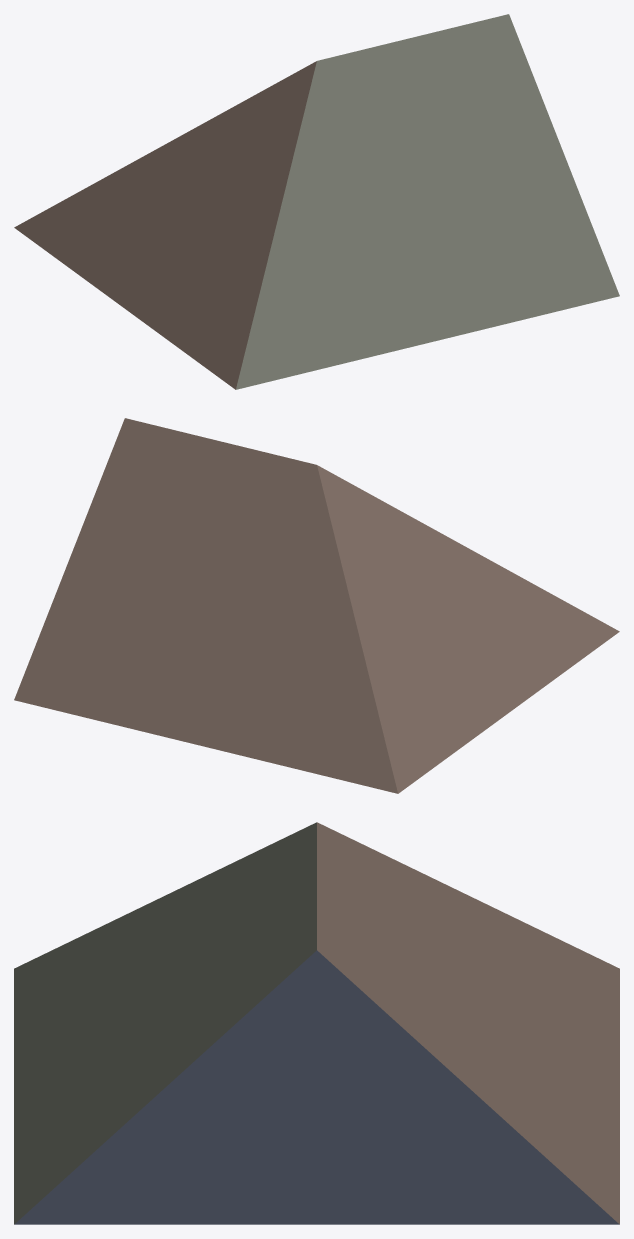
File: Bump_end.fbx
The picture shows the model from 3 angles, top to bottom: view 1: azimuth 30°, elevation 25°; view 2: azimuth 150°, elevation 25°; view 3: azimuth 270°, elevation 25°; orthographic projection. The views are drawn at different scales.
Visible parts, largest first — view 1: Mesh; view 2: Mesh; view 3: Mesh.
Part boxes in pixels (<box>): Mesh: <box>14,14,619,389</box>; Mesh: <box>14,418,619,793</box>; Mesh: <box>14,822,619,1224</box>.
Bounding box in the file's own units: 100 × 50 × 100.
